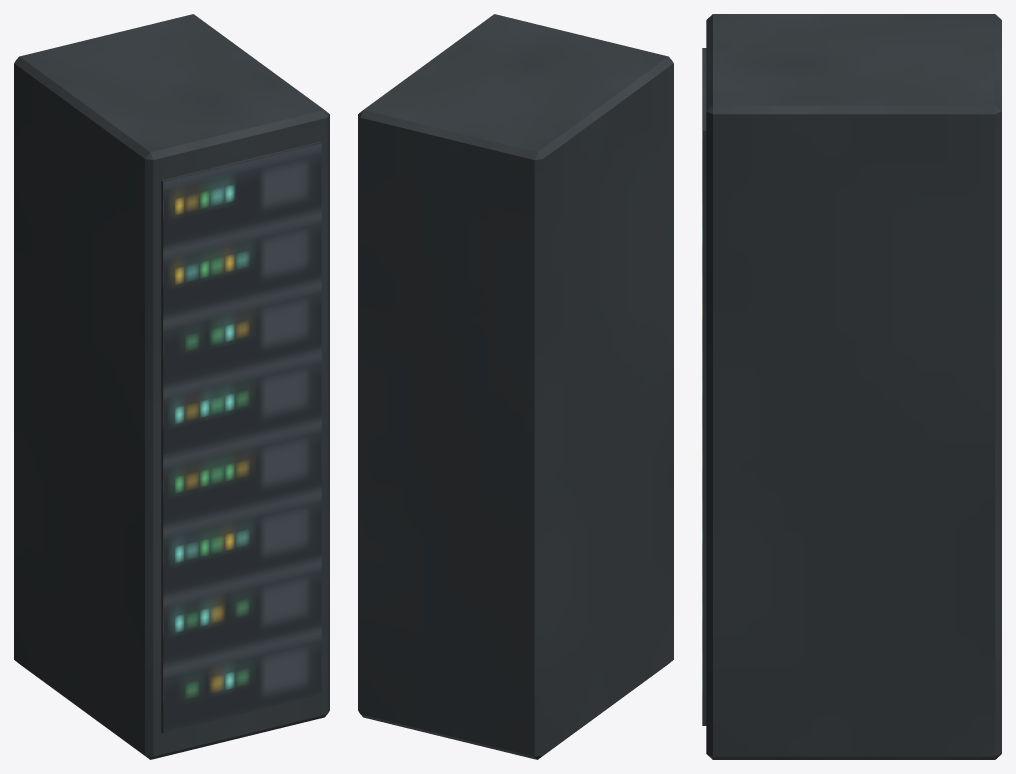
The model's file is rack_ss.fbx.
3 views of the same model, side by side, from view 1: azimuth 30°, elevation 25°; view 2: azimuth 150°, elevation 25°; view 3: azimuth 270°, elevation 25° (orthographic). The views are drawn at different scales.
Visible parts, largest first — view 1: rack_ss, rack_ss_lamp; view 2: rack_ss; view 3: rack_ss, rack_ss_lamp.
Part boxes in pixels (bbox=[...]): rack_ss: bbox=[14, 14, 329, 759]; rack_ss_lamp: bbox=[163, 143, 321, 733]; rack_ss: bbox=[358, 14, 673, 759]; rack_ss: bbox=[703, 14, 1001, 759]; rack_ss_lamp: bbox=[702, 48, 702, 725].
Size of the model in its own units: 0.7 by 2.2 by 0.913.
Materials: 1 (1 with a texture image).
